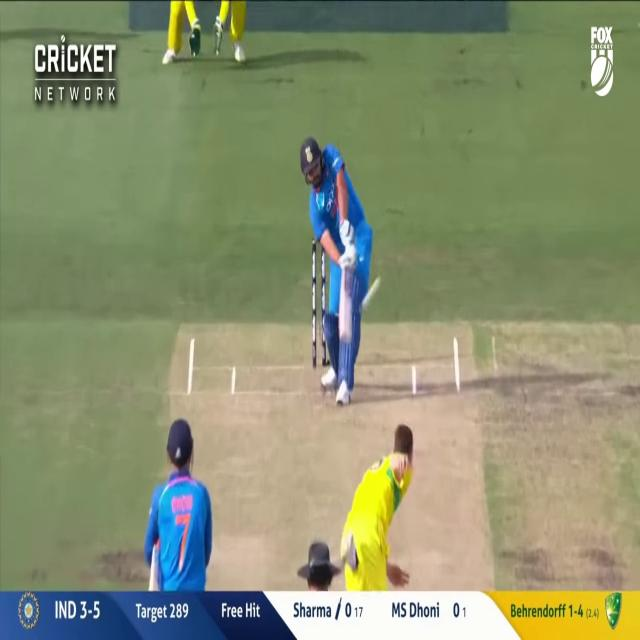ball: (361, 278, 382, 306)
stump: (312, 237, 326, 370)
